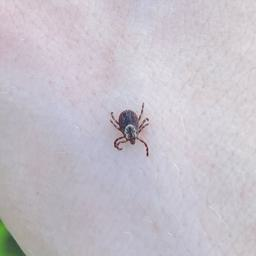Dermacentor variabilis: (108, 108, 153, 157)
